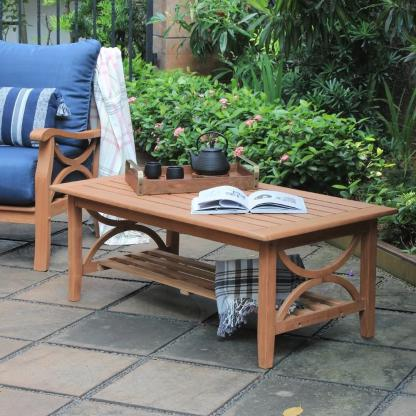table: (42, 154, 400, 372)
